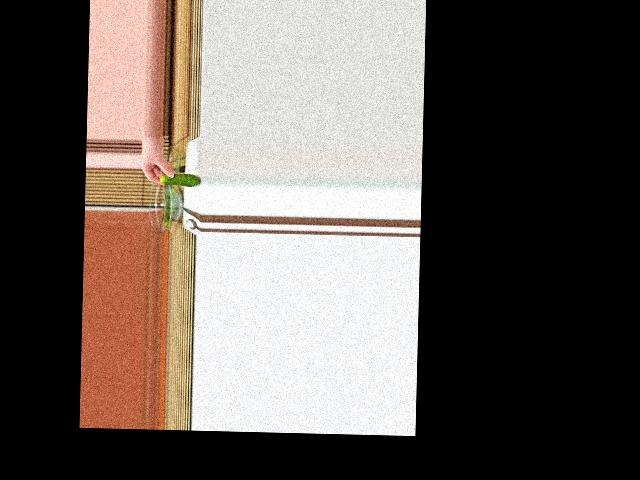cucumber: (159, 173, 200, 186)
